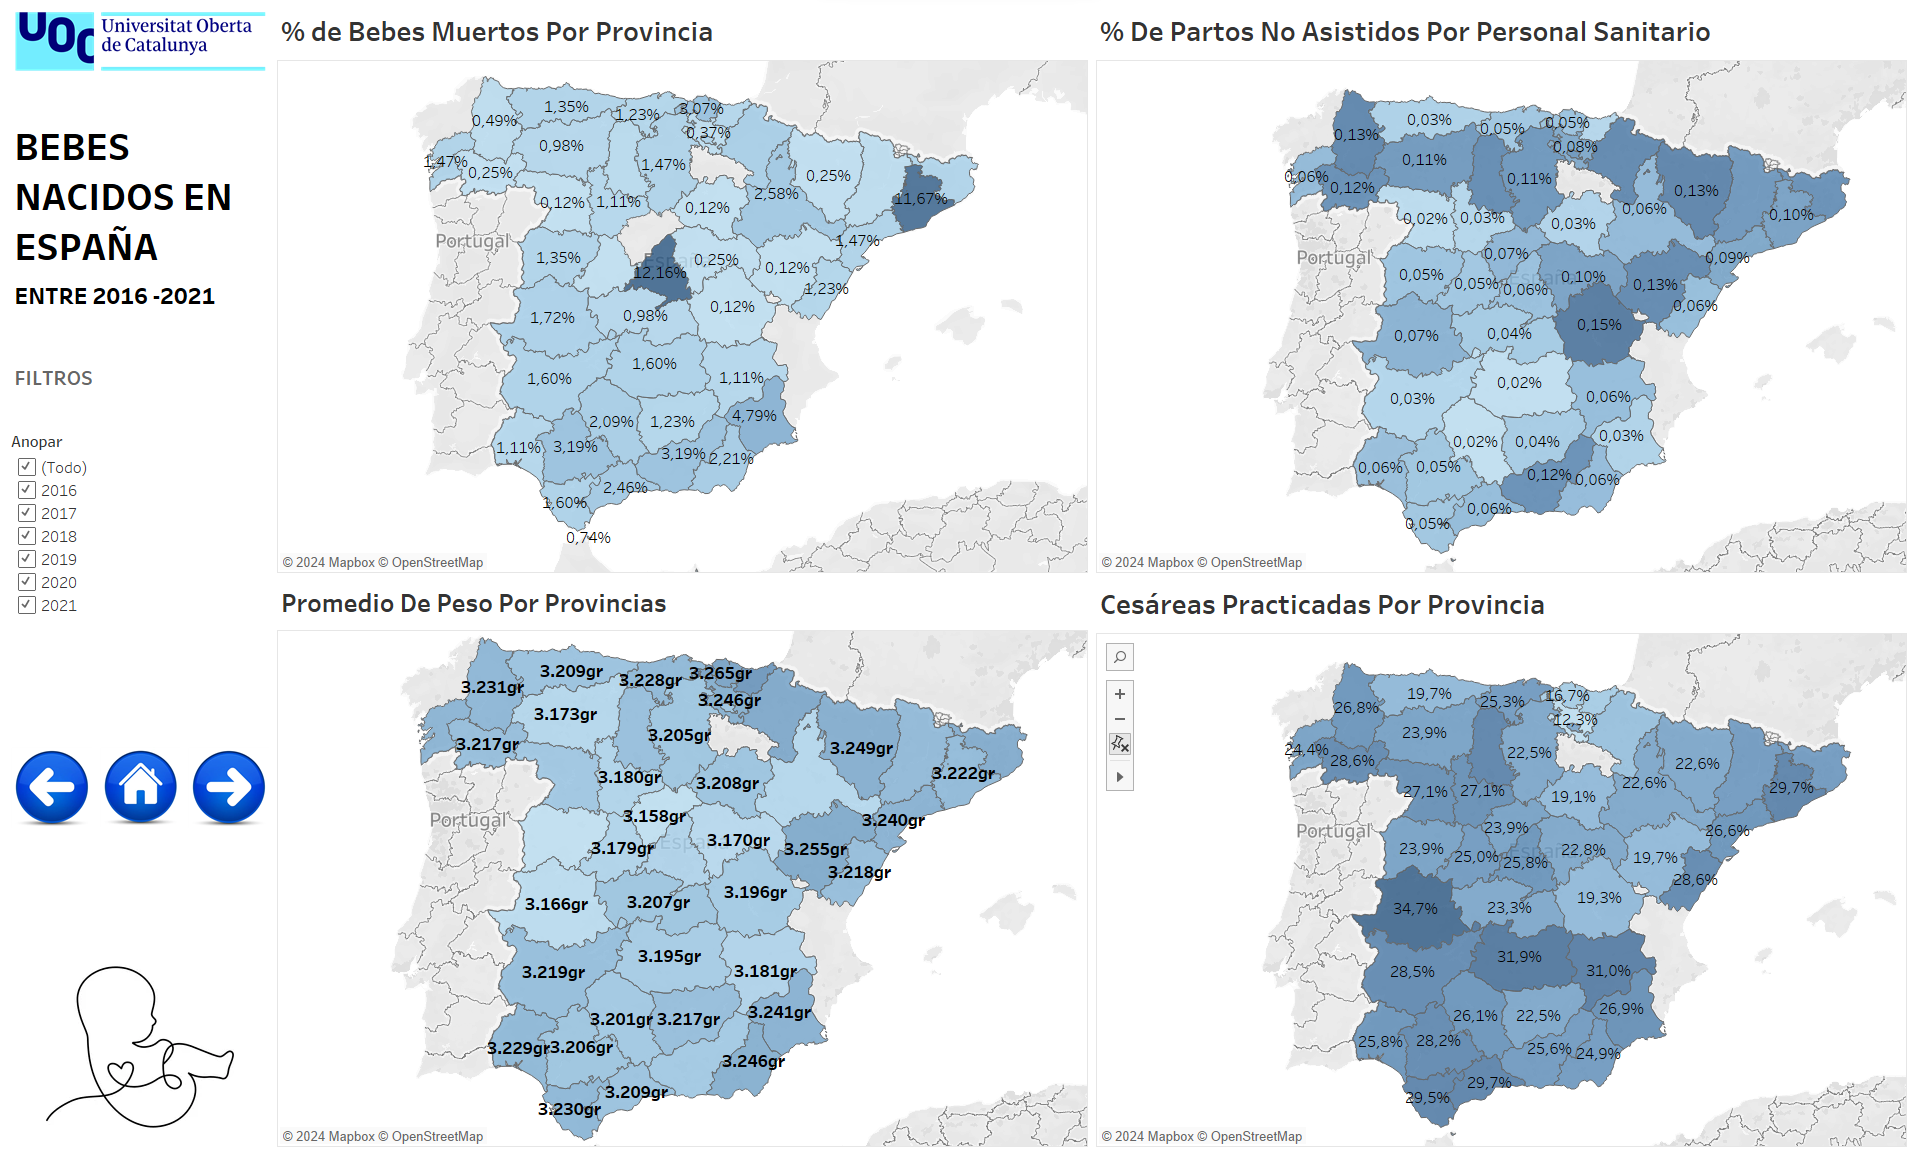

This screenshot's page, from the dashboard's own definition file:
{"tool":"tableau","page":{"name":"HOJA 2","canvas":[1000,1000],"units":"permille","ordinal":1},"visuals":[{"type":"image","param":"C:/Users/miguel.agua/Documents/Personal/Semestre3/Visualizacion/PRA2/Imagenes/uo","box":[5.2,8.2,146.7,95.6]},{"type":"worksheet","title":"Asistido (2)","mark":"Automatic","box":[151.9,8.2,417.3,491.7]},{"type":"worksheet","title":"Asistido","mark":"Automatic","box":[569.1,8.2,425.6,491.7]},{"type":"text","box":[5.2,103.9,146.7,162.7]},{"type":"text","box":[5.2,266.6,146.7,42.2]},{"type":"blank","box":[5.2,308.8,146.7,45.3]},{"type":"text","box":[5.2,354.1,146.7,37.1]},{"type":"blank","box":[5.2,391.2,146.7,33]},{"type":"filter","title":"Asistido","param":"[federated.0aty76y0109al219r4ch6103iras].[none:ANOPAR:nk]","box":[5.2,424.2,146.7,242]},{"type":"worksheet","title":"PEso por provincias","mark":"Automatic","box":[151.9,499.9,417.2,491.8]},{"type":"worksheet","title":"Cesáreas","mark":"Automatic","box":[569.1,499.9,425.7,491.8]},{"type":"dashboard-object","box":[5.2,666.2,48.9,77.2]},{"type":"dashboard-object","box":[54.1,666.2,48.9,77.2]},{"type":"dashboard-object","box":[103,666.2,48.9,77.2]},{"type":"image","param":"C:/Users/miguel.agua/Documents/Personal/Semestre3/Visualizacion/PRA2/Imagenes/ww","box":[5.2,749.7,146.7,242]}]}

Visuals, with their boxes on the dashboard's canvas, which has no fixed pixel size, in thousandths of its width and height (x1, y1, x2, y2). These are canvas units, not pixel positions in the 1919x1152 screenshot, which may show the page scaled, cropped or inside an application window:
image: 5:8:152:104
"Asistido (2)" worksheet: 152:8:569:500
"Asistido" worksheet: 569:8:995:500
text: 5:104:152:267
text: 5:267:152:309
blank: 5:309:152:354
text: 5:354:152:391
blank: 5:391:152:424
"Asistido" filter: 5:424:152:666
"PEso por provincias" worksheet: 152:500:569:992
"Cesáreas" worksheet: 569:500:995:992
dashboard-object: 5:666:54:743
dashboard-object: 54:666:103:743
dashboard-object: 103:666:152:743
image: 5:750:152:992
